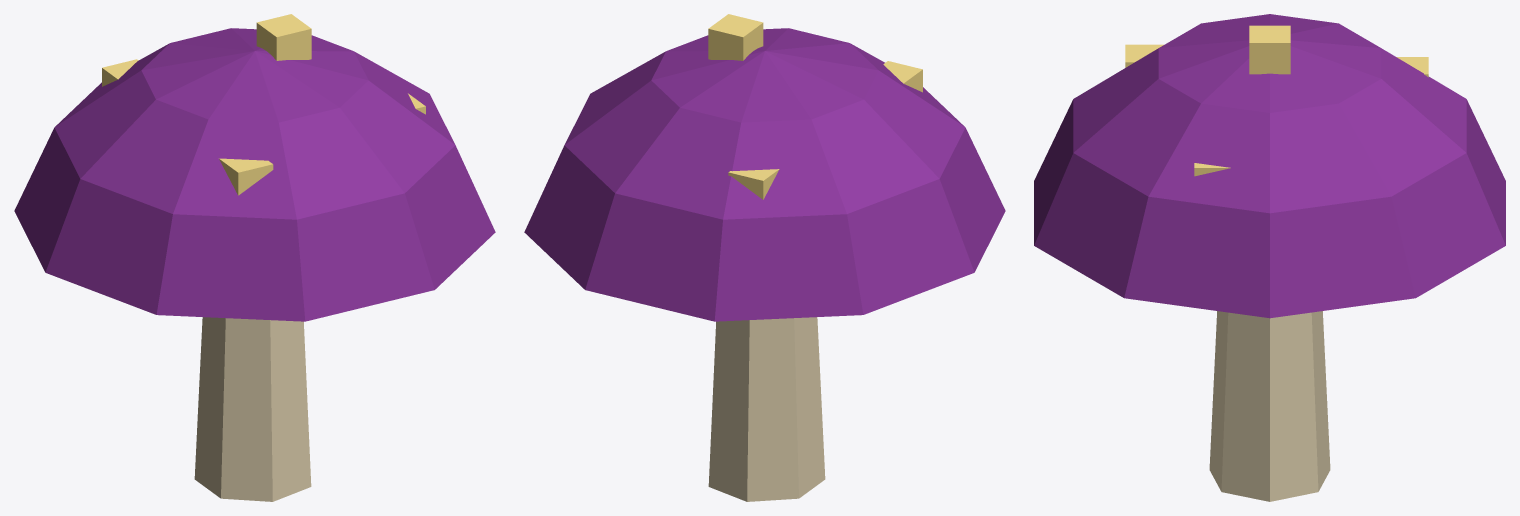
Rendered from hongo.obj.
The picture shows the model from 3 angles, left to right: view 1: azimuth 30°, elevation 25°; view 2: azimuth 150°, elevation 25°; view 3: azimuth 270°, elevation 25°; orthographic projection. The views are drawn at different scales.
Parts seen in each view (by area): view 1: hongo; view 2: hongo; view 3: hongo.
Part boxes in pixels (x1,y1,x2,y2): hongo: (14, 14, 495, 501); hongo: (524, 14, 1005, 501); hongo: (1034, 14, 1505, 501).
Size of the model in its own units: 0.72 by 0.73 by 0.6848.
